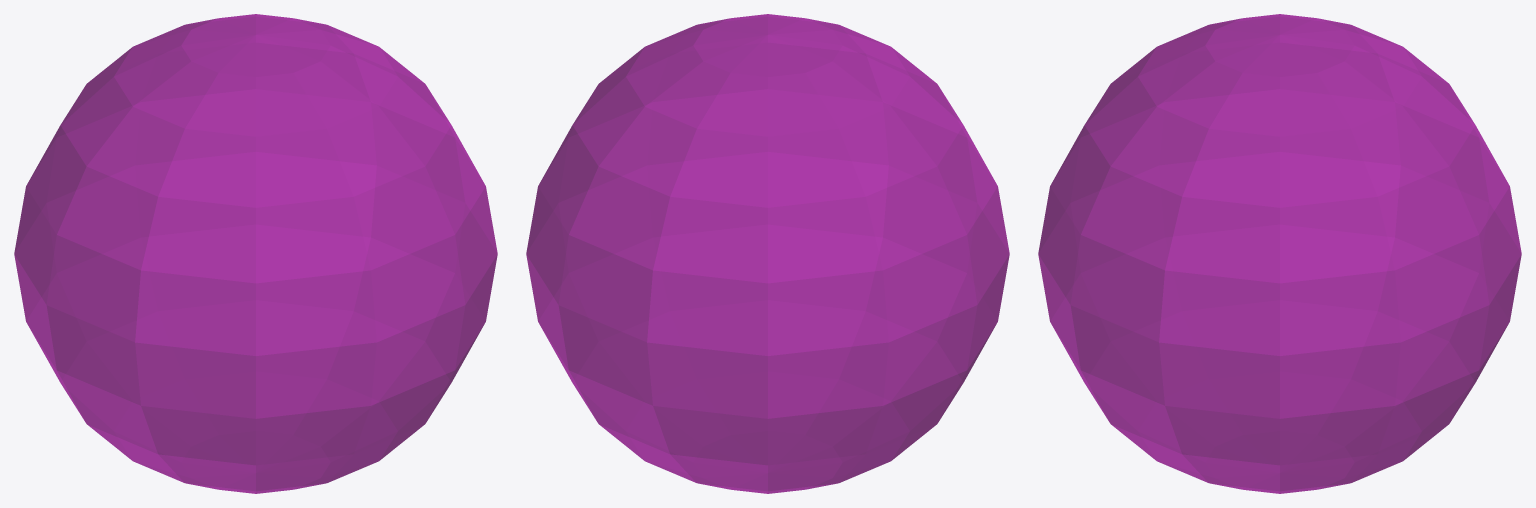
The model's file is SM_Prop_Supercomputer_01_Orb_Collision.fbx.
3 renders of one model, left to right at view 1: azimuth 30°, elevation 25°; view 2: azimuth 150°, elevation 25°; view 3: azimuth 270°, elevation 25°, orthographic.
Parts seen in each view (by area): view 1: SM_Prop_Supercomputer_01_Orb_Collision; view 2: SM_Prop_Supercomputer_01_Orb_Collision; view 3: SM_Prop_Supercomputer_01_Orb_Collision.
Part boxes in pixels (<box>): SM_Prop_Supercomputer_01_Orb_Collision: <box>14,14,497,493</box>; SM_Prop_Supercomputer_01_Orb_Collision: <box>526,14,1009,493</box>; SM_Prop_Supercomputer_01_Orb_Collision: <box>1038,14,1521,493</box>.
Bounding box in the file's own units: 129 × 129 × 129.
